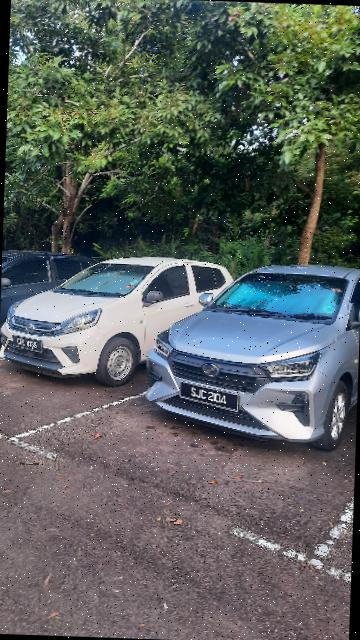License_Plate: (179, 378, 243, 419), (13, 336, 46, 354)
car: (149, 259, 360, 453), (1, 249, 241, 392)
